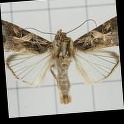Spodoptera litura: (4, 13, 119, 104)
